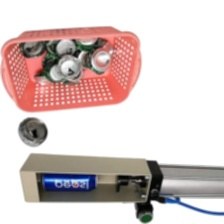can: (36, 166, 102, 195), (13, 116, 58, 150), (71, 29, 103, 55), (44, 34, 78, 58), (16, 36, 46, 63), (54, 52, 82, 79), (87, 48, 112, 76), (33, 71, 59, 85)
